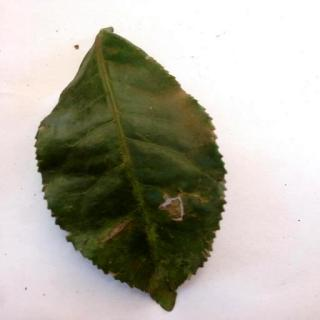Algal Leaf: (36, 29, 228, 312)
